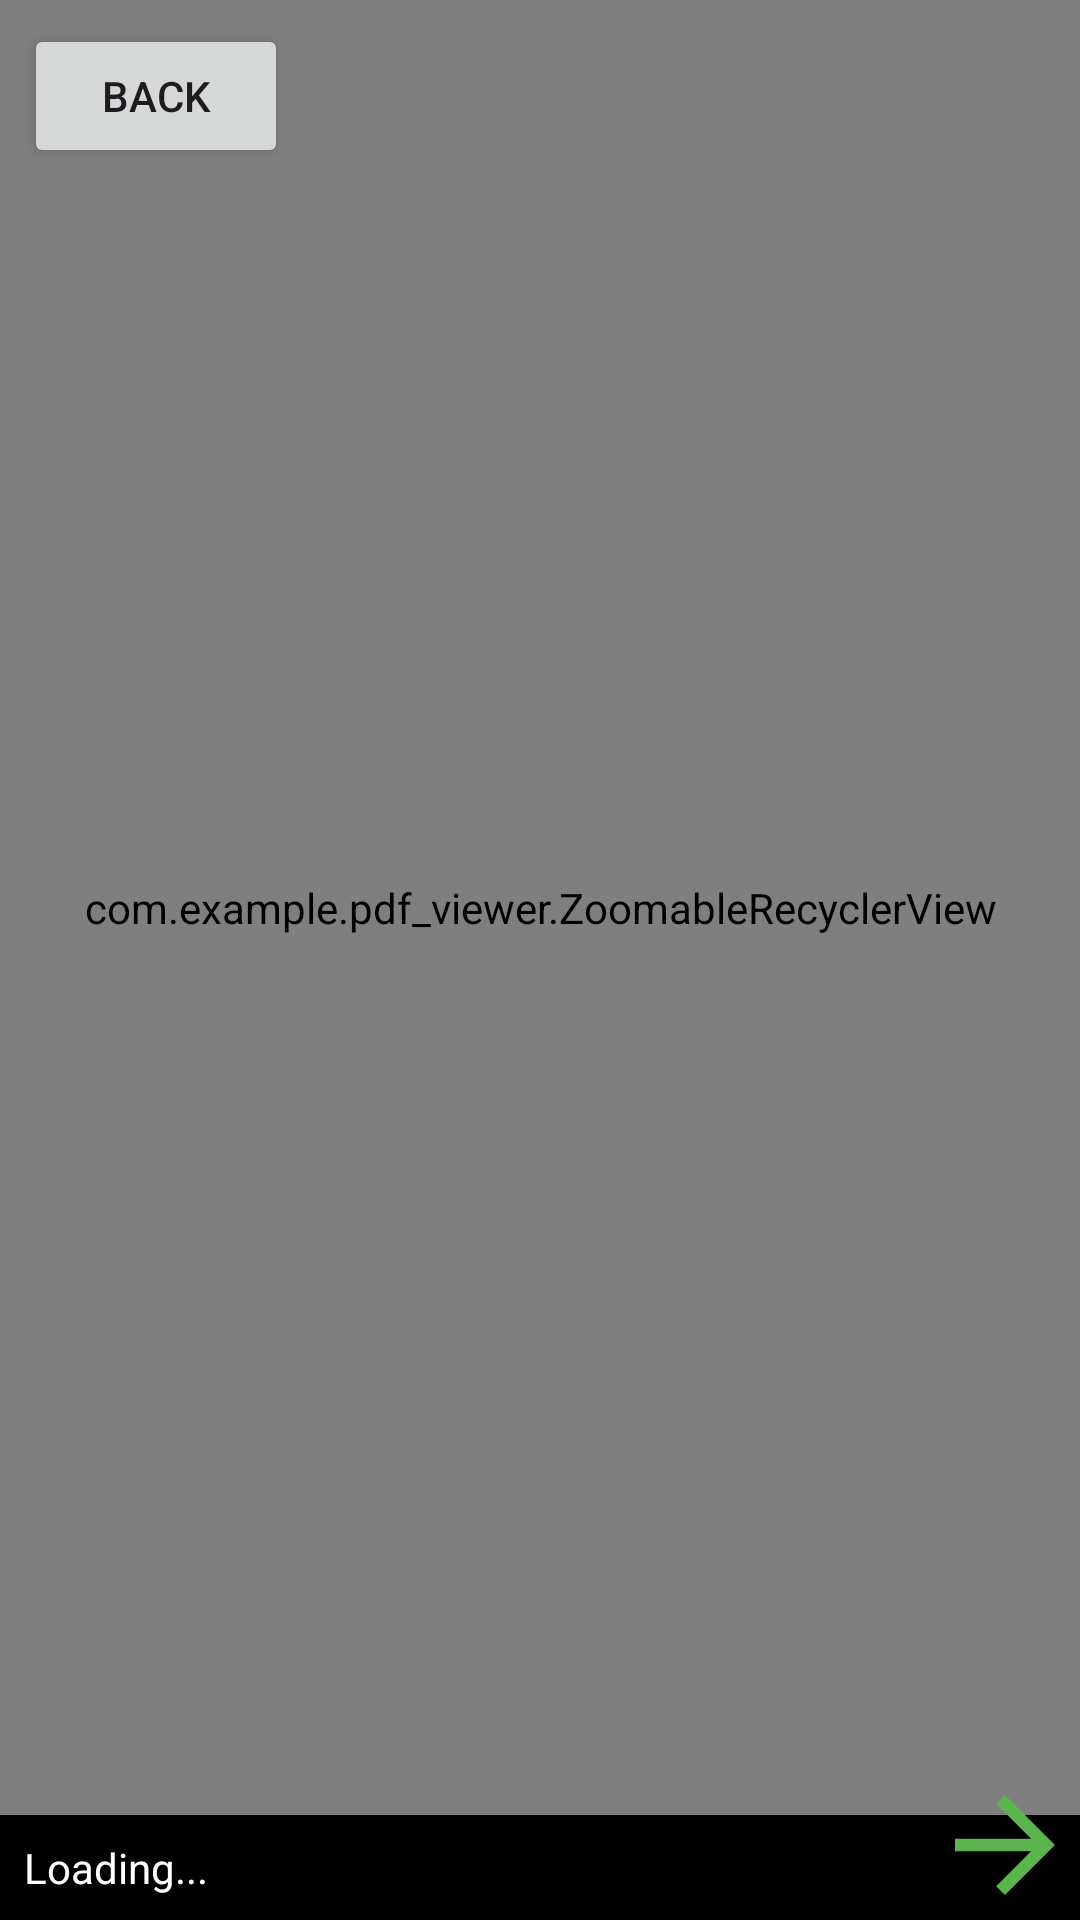

Named icons in this screenshot (1080*1920) and their centers, point (x, y):
right arrow: point (1005, 1857)
